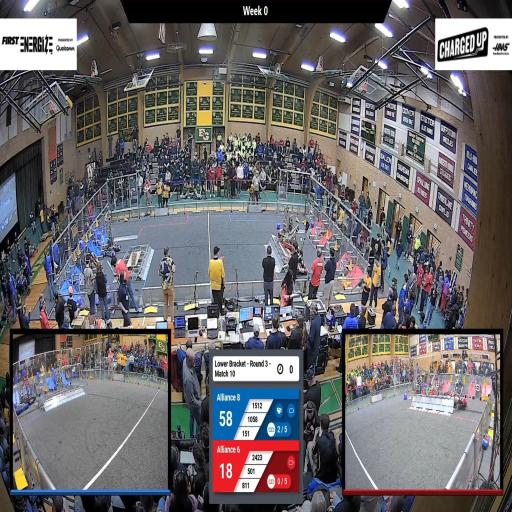robot: (84, 248, 106, 281), (102, 223, 122, 259), (92, 274, 113, 308), (278, 206, 299, 240), (291, 244, 310, 278), (284, 220, 300, 252)
